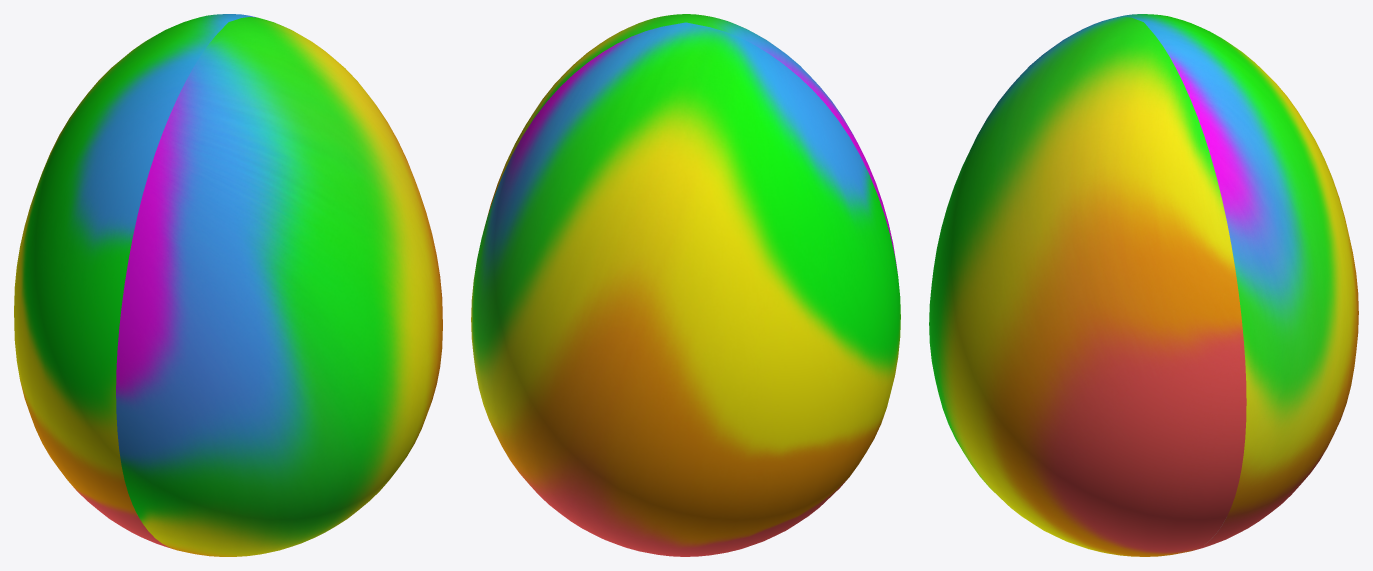
Rendered from rainbowEgg.fbx.
The picture shows the model from 3 angles, left to right: view 1: azimuth 30°, elevation 25°; view 2: azimuth 150°, elevation 25°; view 3: azimuth 270°, elevation 25°; orthographic projection.
Parts seen in each view (by area): view 1: Sphere.001; view 2: Sphere.001; view 3: Sphere.001.
Boxes of the visible parts, x1=… form: Sphere.001: x1=14, y1=14, x2=442, y2=556; Sphere.001: x1=471, y1=14, x2=900, y2=556; Sphere.001: x1=929, y1=14, x2=1358, y2=556.
Size of the model in its own units: 305 by 405 by 305.
1 material, 1 textured.
